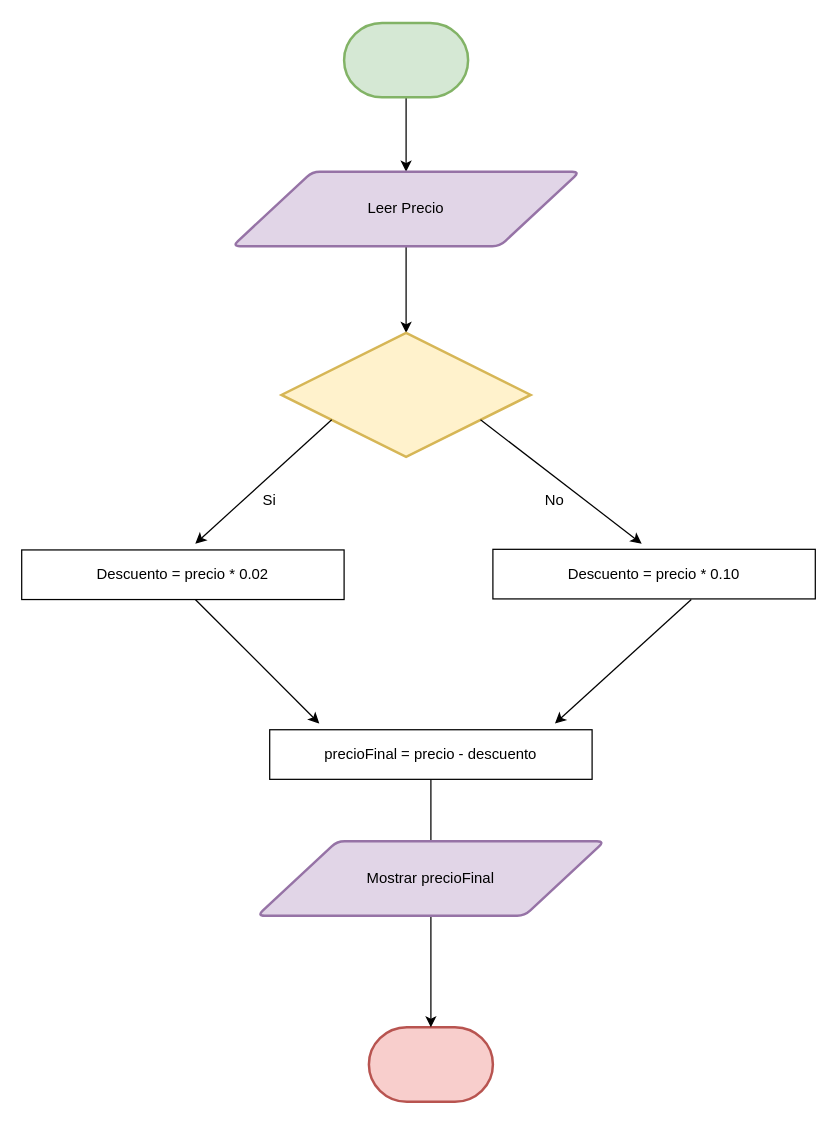
The diagram is 837 pixels wide and 1123 high, and some of its shapes have lost their labels. The box of each missing label's shape, as (x1, y1, x2, y2) in pixels:
Fin: (367, 1025, 494, 1102)
Inicio: (342, 21, 469, 98)
¿precio < 100?: (280, 331, 531, 458)
